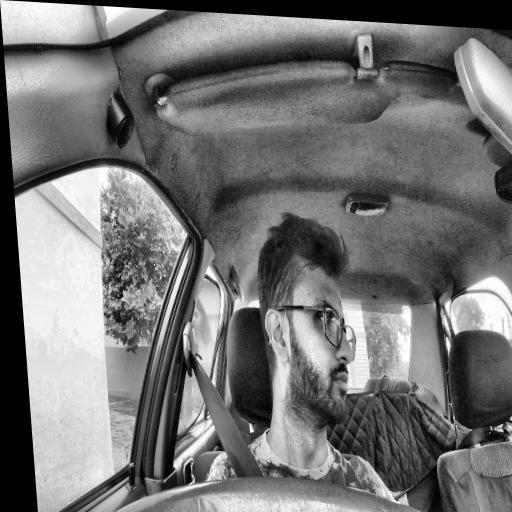awake: (253, 208, 364, 427)
